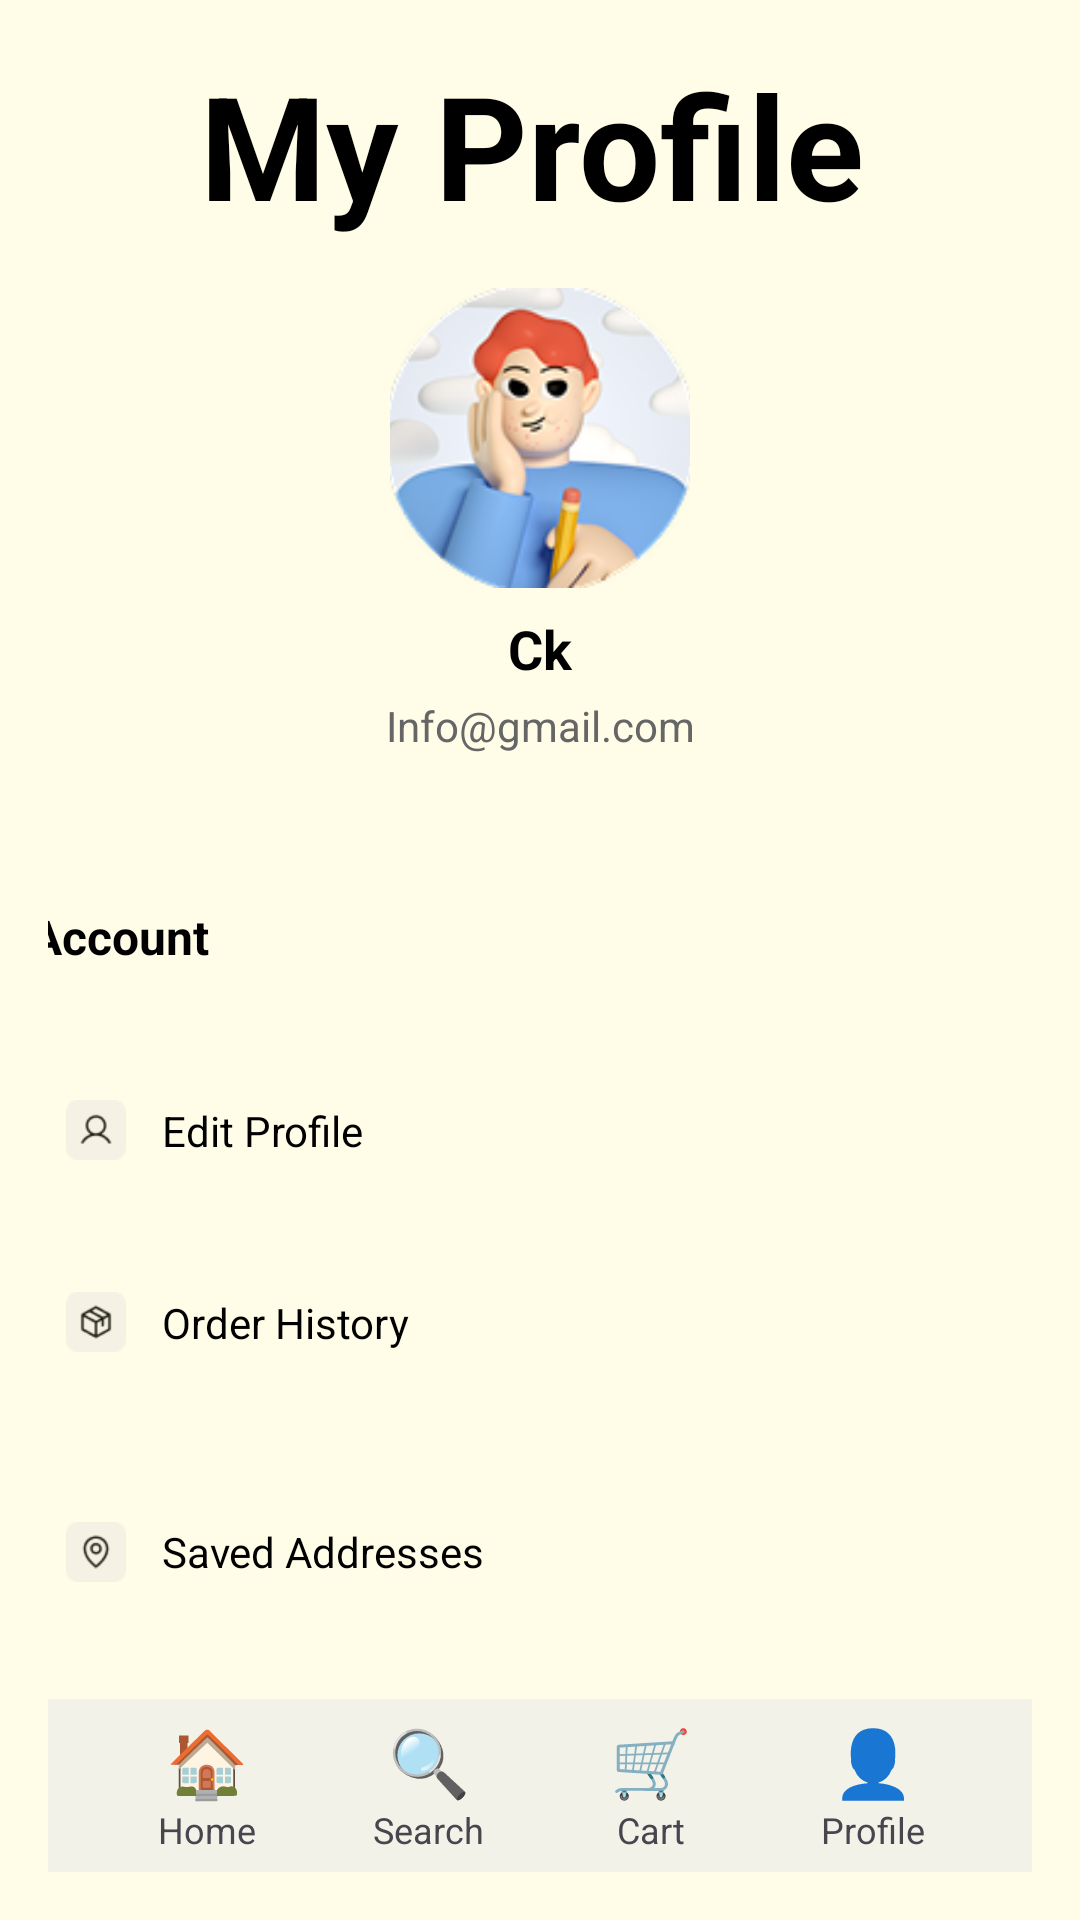

Icon click points for this 1080w x 1920h phone screenshot, format point (x, y):
location: point (96, 1552)
